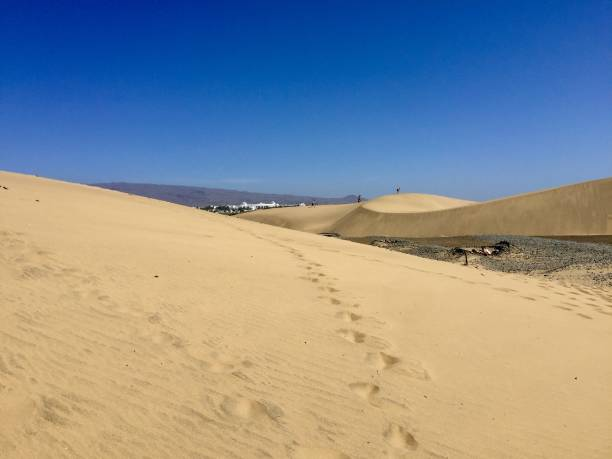human_foot_print: (147, 327, 252, 378), (336, 327, 427, 378), (203, 390, 284, 426), (365, 352, 431, 380), (218, 395, 283, 422), (194, 351, 251, 373), (334, 305, 384, 329), (336, 328, 388, 348), (141, 328, 187, 349), (383, 423, 417, 449), (289, 446, 349, 458), (349, 382, 379, 405), (366, 352, 400, 370), (400, 361, 431, 380), (317, 294, 357, 307), (336, 328, 365, 342), (336, 311, 361, 322), (147, 312, 162, 325), (298, 274, 318, 282), (576, 312, 592, 319), (552, 305, 572, 310), (329, 297, 341, 305), (326, 286, 339, 292), (316, 272, 325, 277)
